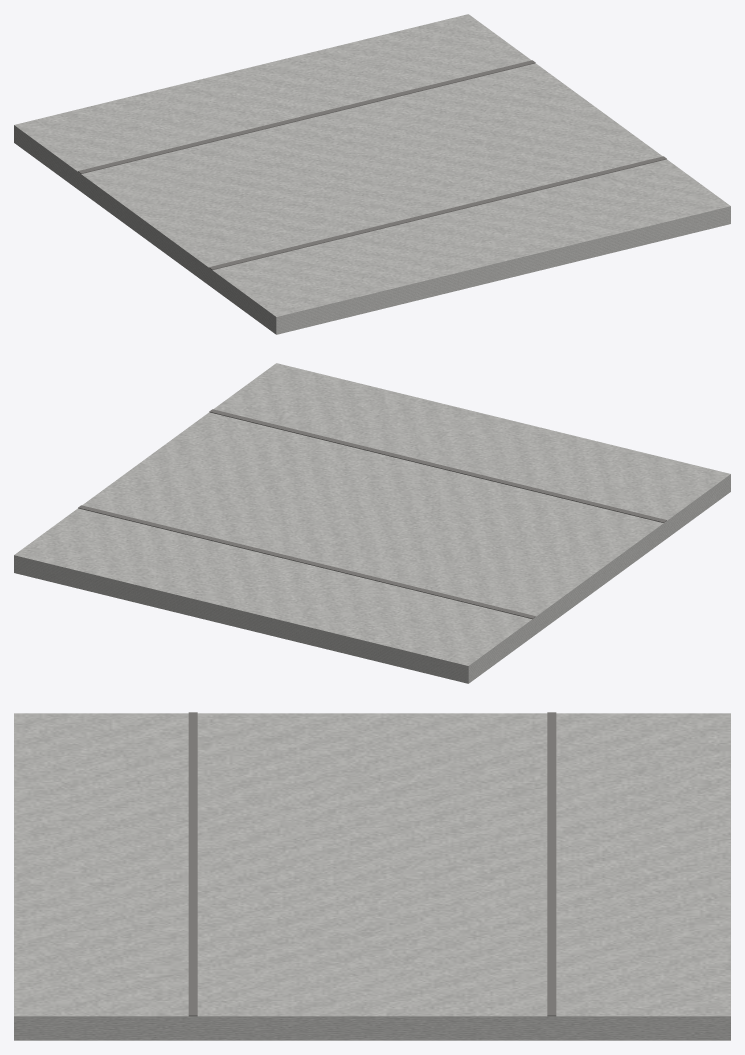
Rendered from skate-park-and-street-sports-flat-concrete-ground-tile-e47e500b__33513.glb.
3 views of the same model, one above another, from view 1: azimuth 30°, elevation 25°; view 2: azimuth 150°, elevation 25°; view 3: azimuth 270°, elevation 25° (orthographic). The views are drawn at different scales.
Visible parts, largest first — view 1: flat-concrete-ground-tile-concrete, flat-concrete-ground-tile-asphalt; view 2: flat-concrete-ground-tile-concrete, flat-concrete-ground-tile-asphalt; view 3: flat-concrete-ground-tile-concrete, flat-concrete-ground-tile-asphalt.
Part boxes in pixels (box(x1,y1,x2,y2)): flat-concrete-ground-tile-concrete: box(14, 14, 730, 334); flat-concrete-ground-tile-asphalt: box(78, 60, 666, 270); flat-concrete-ground-tile-concrete: box(14, 363, 730, 683); flat-concrete-ground-tile-asphalt: box(78, 409, 666, 619); flat-concrete-ground-tile-concrete: box(14, 713, 730, 1040); flat-concrete-ground-tile-asphalt: box(188, 712, 556, 1016).
Bounding box in the file's own units: 4 × 0.1559 × 4.
Materials: 2 (1 with a texture image).
